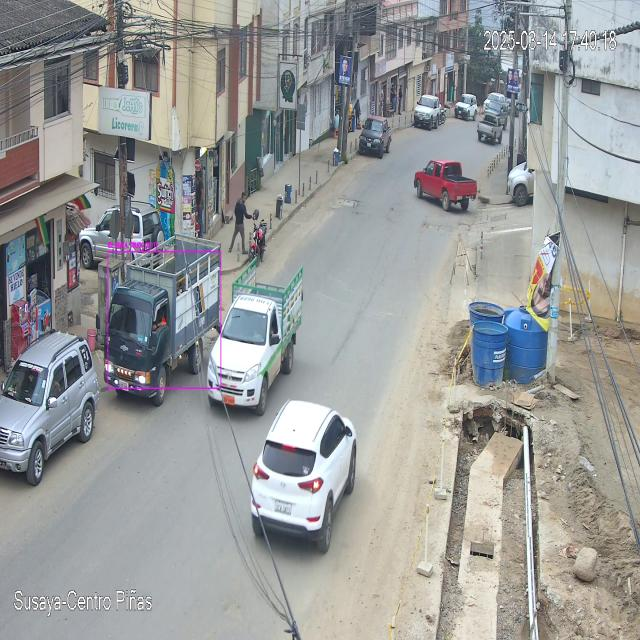CMT: (209, 268, 305, 416)
SUV: (251, 403, 356, 558)
TRUCK: (100, 230, 223, 404)
